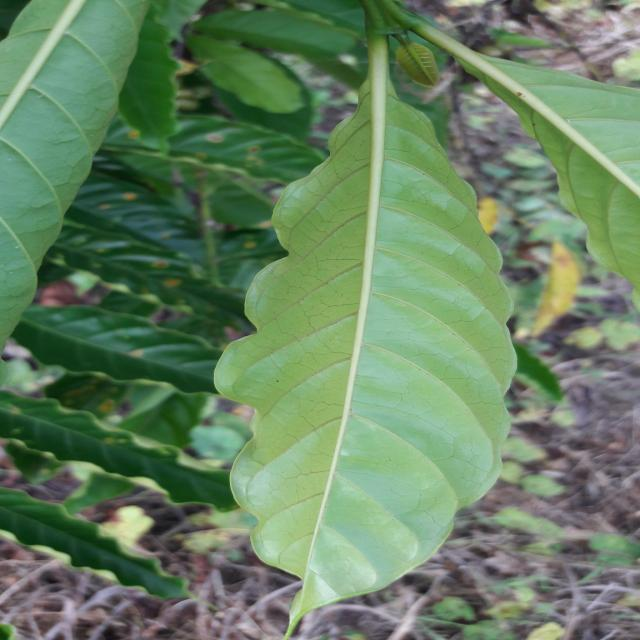Sanas: (206, 0, 517, 634)
